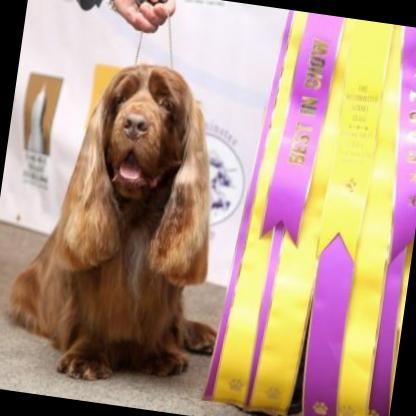Sussex_spaniel: (0, 46, 252, 397)
